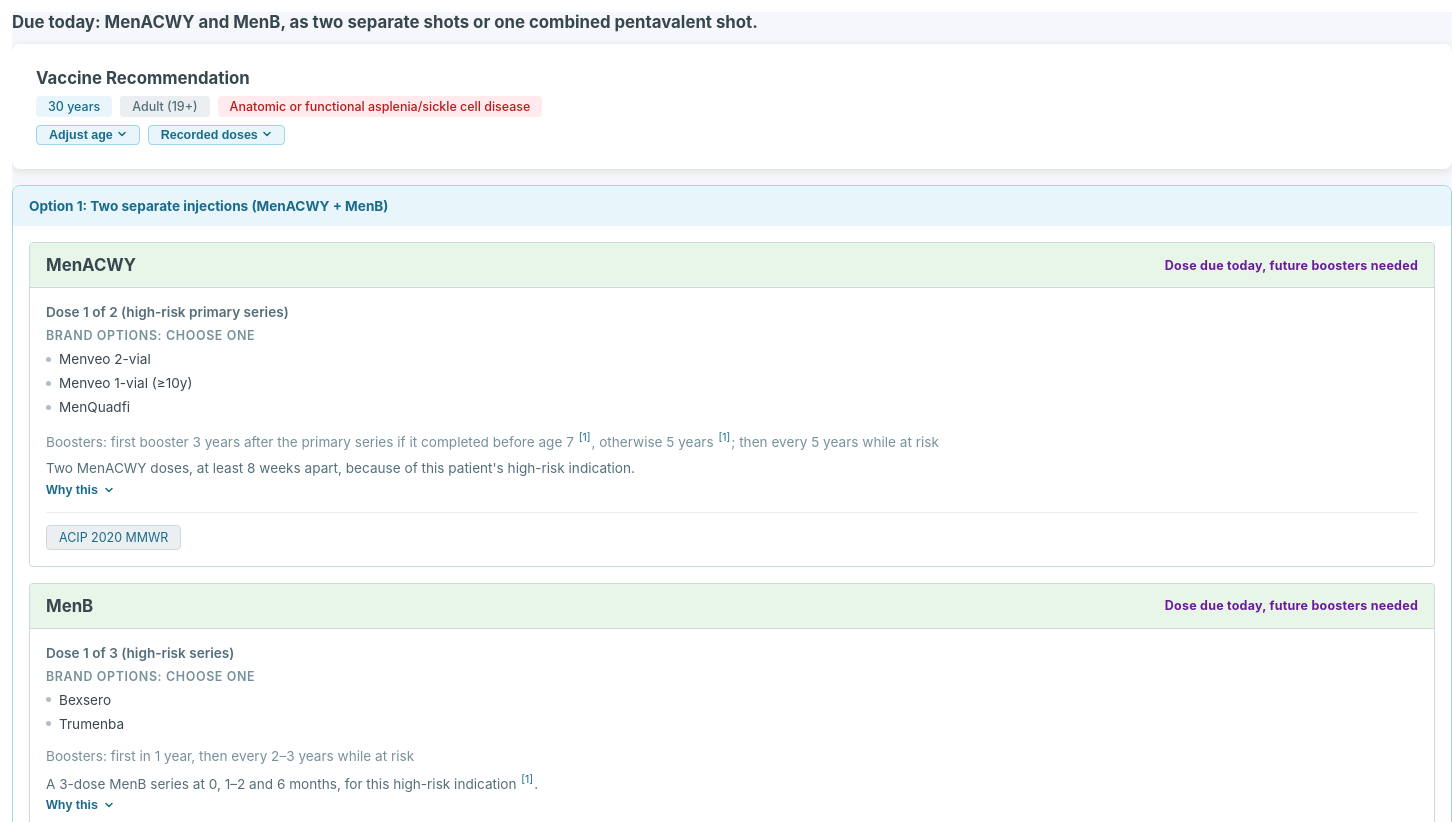
Test: Item 5: MenB family-lock guidance appears in the Results editor too › shows the "brand unknown, both families open" note for an unbranded first MenB dose
Click the button "Recorded doses": (216, 135) x1=148 y1=125 x2=285 y2=145
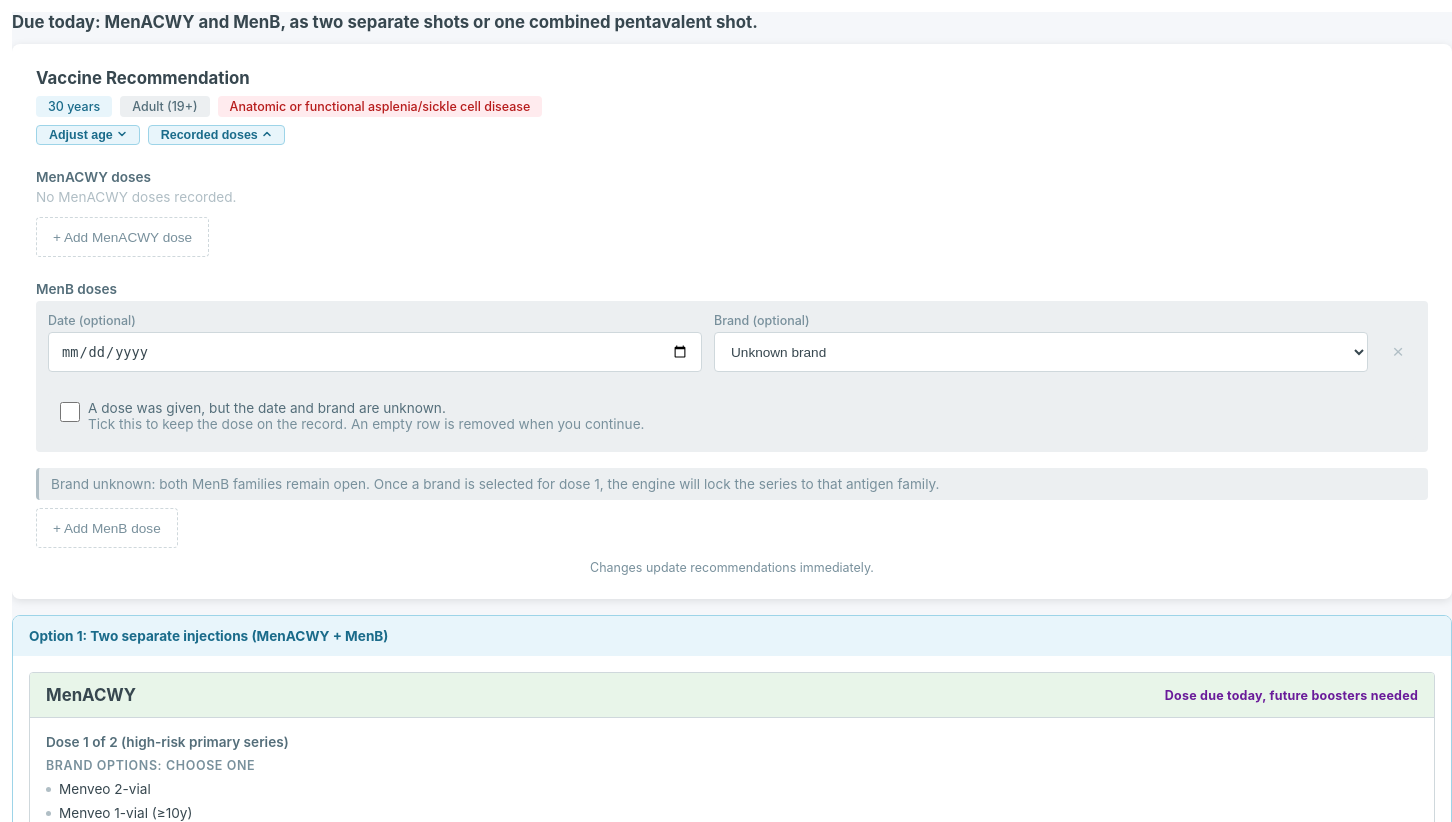
Check: the element with test id "recorded-doses-panel" shows "both MenB families remain open", box x1=51 y1=476 x2=940 y2=492
